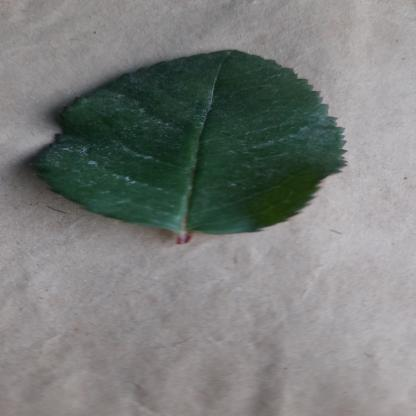normal: (32, 51, 358, 235)
